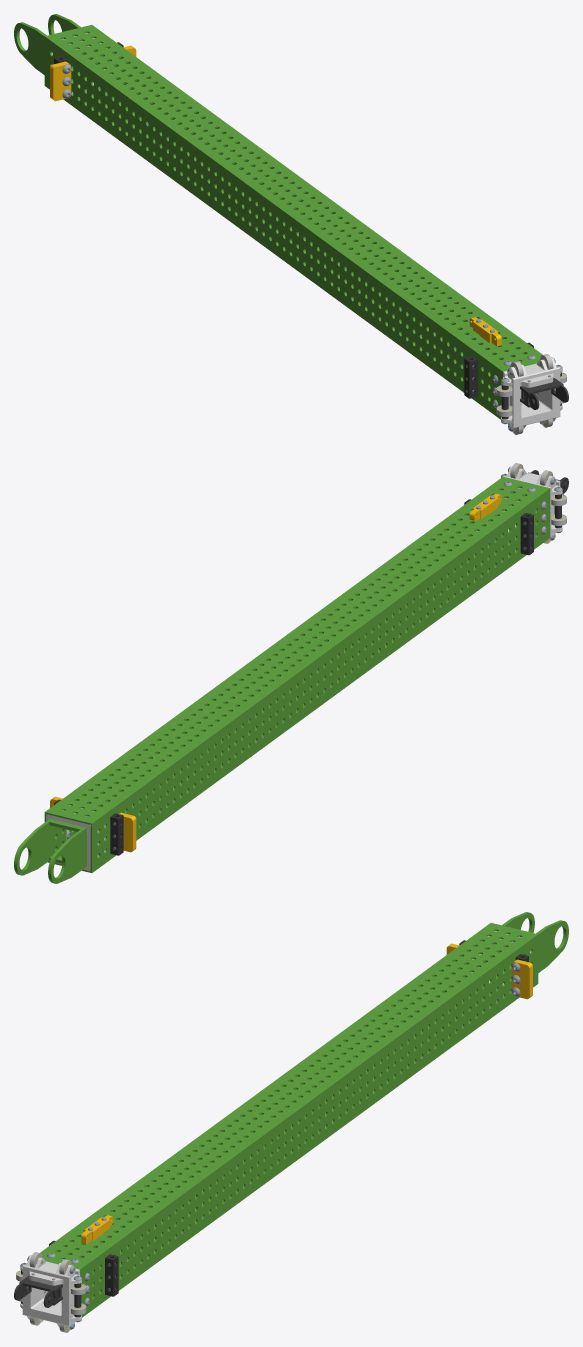
3 views of the same model, one above another, from view 1: azimuth 30°, elevation 25°; view 2: azimuth 150°, elevation 25°; view 3: azimuth 330°, elevation 25° (orthographic).
Parts seen in each view (by area): view 1: Tube 2"x2"x33", O-AMA01_1813_6061AL_1_2026, Part 16, 4556T35_Mounting Brackets for 0.6 High x 1.5 Wide Open Snap-, O-AMA10_0125_6061AL_2_2026, Nut Strip (3/8" Square, 3 Positions, #10-32 Holes, Aligned .; view 2: Tube 2"x2"x33", Part 16, Nut Strip (3/8" Square, 3 Positions, #10-32 Holes, Aligned . (×2), O-AMA01_1813_6061AL_1_2026; view 3: Tube 2"x2"x33", O-AMA01_1813_6061AL_1_2026, Part 16, 4556T35_Mounting Brackets for 0.6 High x 1.5 Wide Open Snap-, O-AMA10_0125_6061AL_2_2026, Nut Strip (3/8" Square, 3 Positions, #10-32 Holes, Aligned ..
Boxes of the visible parts, <box> form: Tube 2"x2"x33": <box>44,25,542,419</box>; O-AMA01_1813_6061AL_1_2026: <box>501,357,562,431</box>; Part 16: <box>14,14,98,85</box>; 4556T35_Mounting Brackets for 0.6 High x 1.5 Wide Open Snap-: <box>520,378,568,409</box>; O-AMA10_0125_6061AL_2_2026: <box>50,61,71,101</box>; Nut Strip (3/8" Square, 3 Positions, #10-32 Holes, Aligned .: <box>464,356,477,398</box>; Tube 2"x2"x33": <box>44,476,550,872</box>; Part 16: <box>14,819,86,883</box>; Nut Strip (3/8" Square, 3 Positions, #10-32 Holes, Aligned . (×2): <box>110,513,533,855</box>; O-AMA01_1813_6061AL_1_2026: <box>496,466,562,540</box>; Tube 2"x2"x33": <box>40,923,538,1317</box>; O-AMA01_1813_6061AL_1_2026: <box>20,1255,81,1329</box>; Part 16: <box>484,912,568,983</box>; 4556T35_Mounting Brackets for 0.6 High x 1.5 Wide Open Snap-: <box>14,1276,62,1307</box>; O-AMA10_0125_6061AL_2_2026: <box>511,959,532,999</box>; Nut Strip (3/8" Square, 3 Positions, #10-32 Holes, Aligned .: <box>105,1254,118,1296</box>.
Size of the model in its own units: 0.0889 by 0.073 by 0.9668.
